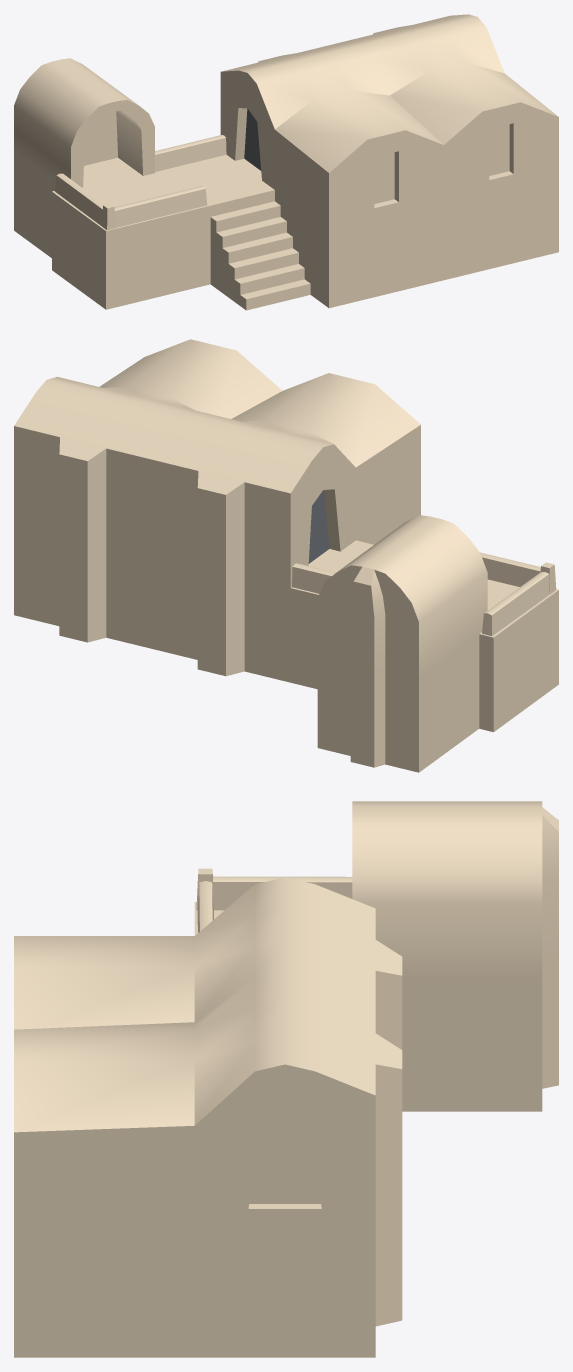
Rendered from house4.glb.
3 views of the same model, one above another, from view 1: azimuth 30°, elevation 25°; view 2: azimuth 150°, elevation 25°; view 3: azimuth 270°, elevation 25° (orthographic). The views are drawn at different scales.
Parts seen in each view (by area): view 1: House4; view 2: House4; view 3: House4.
Boxes of the visible parts, x1=… form: House4: x1=14, y1=14, x2=558, y2=310; House4: x1=14, y1=339, x2=558, y2=772; House4: x1=14, y1=801, x2=558, y2=1357.
Size of the model in its own units: 64.52 by 27.2 by 45.8.
